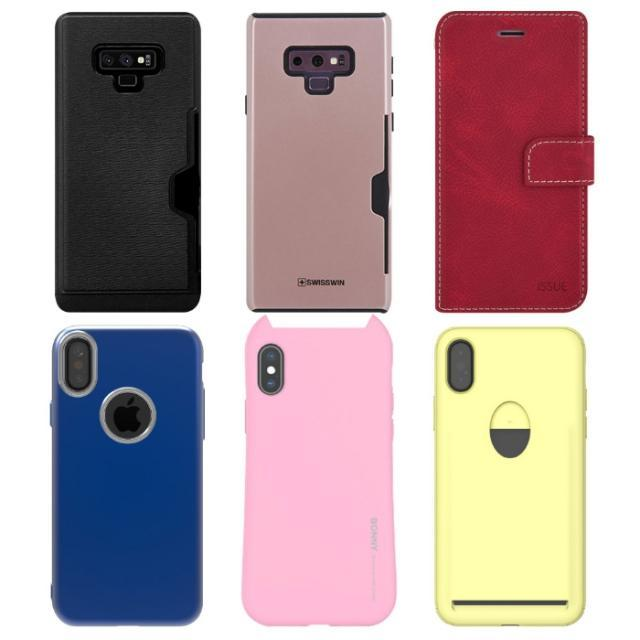phone: (244, 316, 396, 627), (50, 326, 205, 626), (433, 326, 588, 626), (243, 12, 394, 312), (56, 11, 202, 312)
